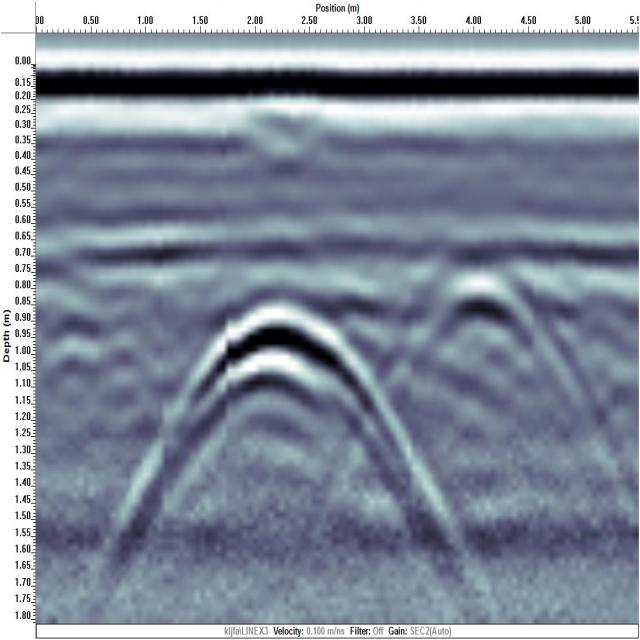hyperbola: (154, 286, 412, 500), (388, 257, 584, 430)
